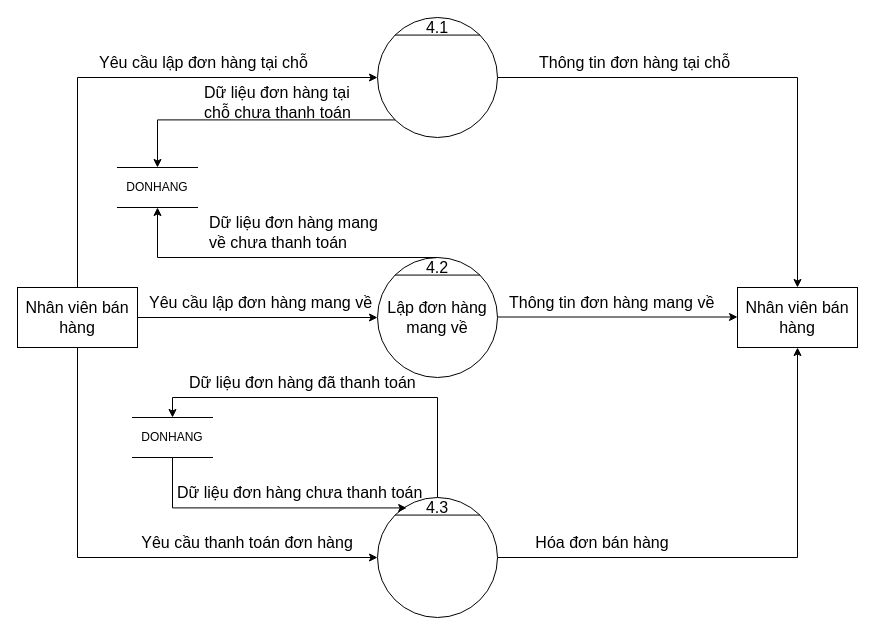
Some shapes in this 875 by 635 pixel diagram are drawn without their labels. The shapes that lost their labels are listed below. From the top down, each one's box as (x1, y1, x2, y2) in pixels, then its label:
(376, 16, 498, 138): Lập đơn hàng tại chỗ
(376, 496, 498, 618): Thanh toán đơn hàng
